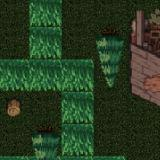Obstacle: (29, 123, 62, 156)
Slow: (29, 0, 63, 91), (62, 60, 94, 156), (0, 60, 30, 90)
